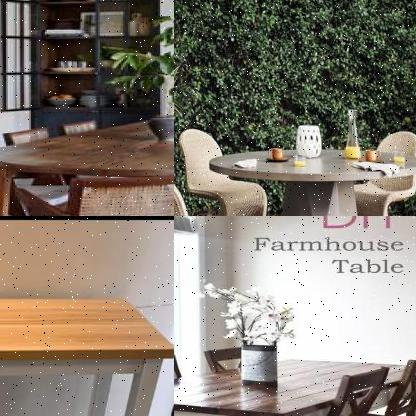table: (0, 290, 173, 415), (0, 105, 173, 215), (204, 142, 415, 215), (174, 352, 415, 415)
